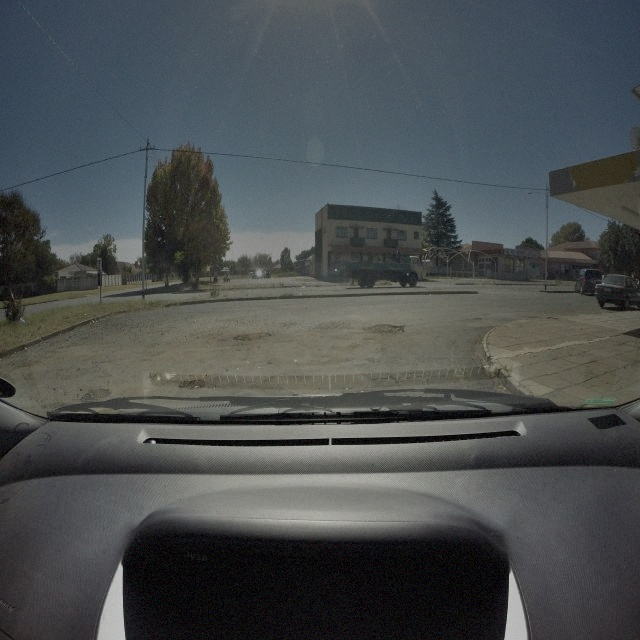pothole: (362, 321, 406, 336), (80, 386, 113, 406), (232, 330, 272, 344), (179, 374, 207, 389)
